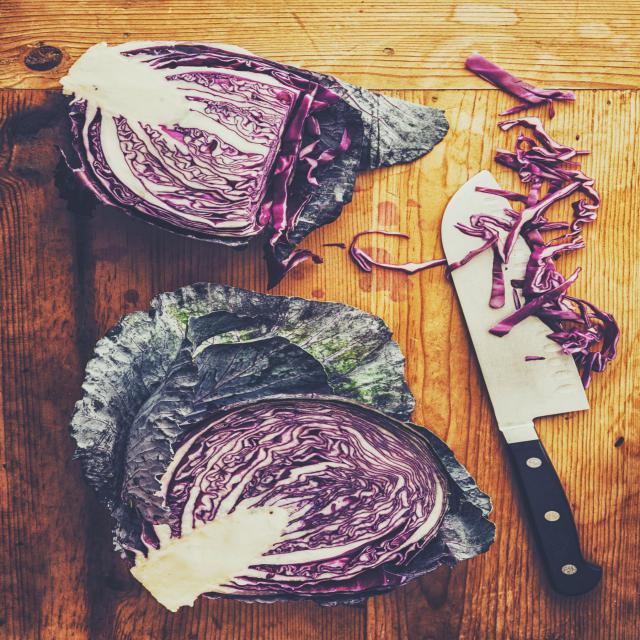cabbage: (124, 392, 448, 612), (58, 36, 390, 248), (472, 53, 626, 370)
